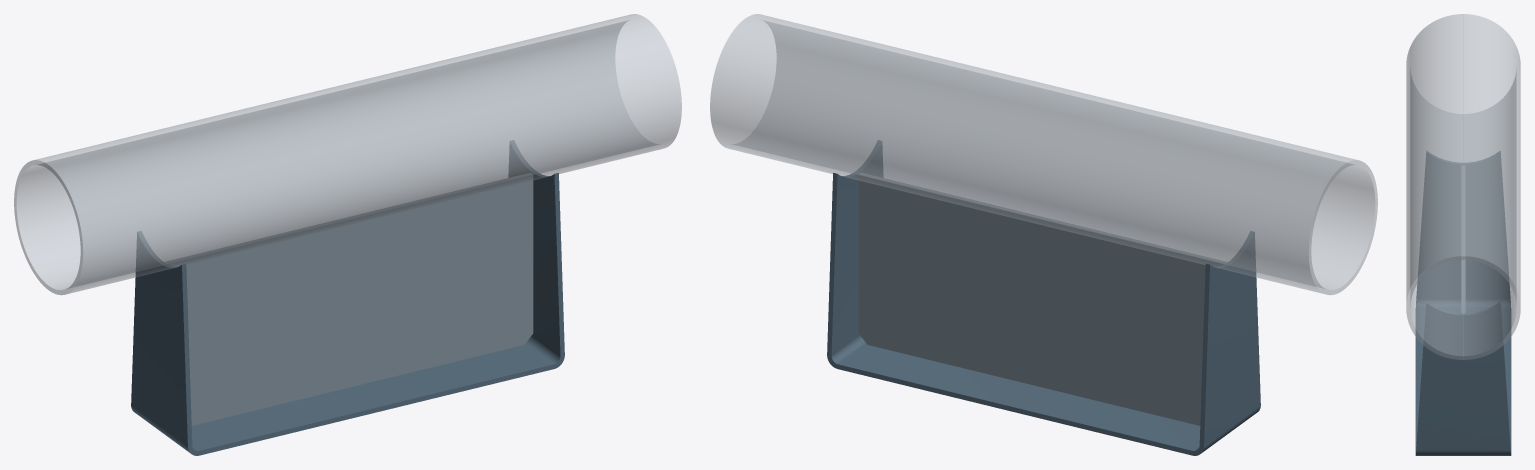
The model's file is TS-623.000-19-opora-dn108-H150-L340.glb.
3 views of the same model, side by side, from view 1: azimuth 30°, elevation 25°; view 2: azimuth 150°, elevation 25°; view 3: azimuth 270°, elevation 25° (orthographic). The views are drawn at different scales.
Visible parts, largest first — view 1: truba, rebro, skoba; view 2: truba, rebro, skoba; view 3: truba, skoba, rebro.
Boxes of the visible parts, box(x1,y1,x2,y2) form: truba: box(14, 14, 681, 295); rebro: box(165, 173, 533, 425); skoba: box(131, 140, 564, 455); truba: box(710, 14, 1377, 295); rebro: box(858, 173, 1226, 425); skoba: box(827, 140, 1260, 455); truba: box(1406, 14, 1520, 359); skoba: box(1415, 151, 1511, 455); rebro: box(1461, 165, 1465, 313).
Size of the model in its own units: 540 by 258 by 108.
